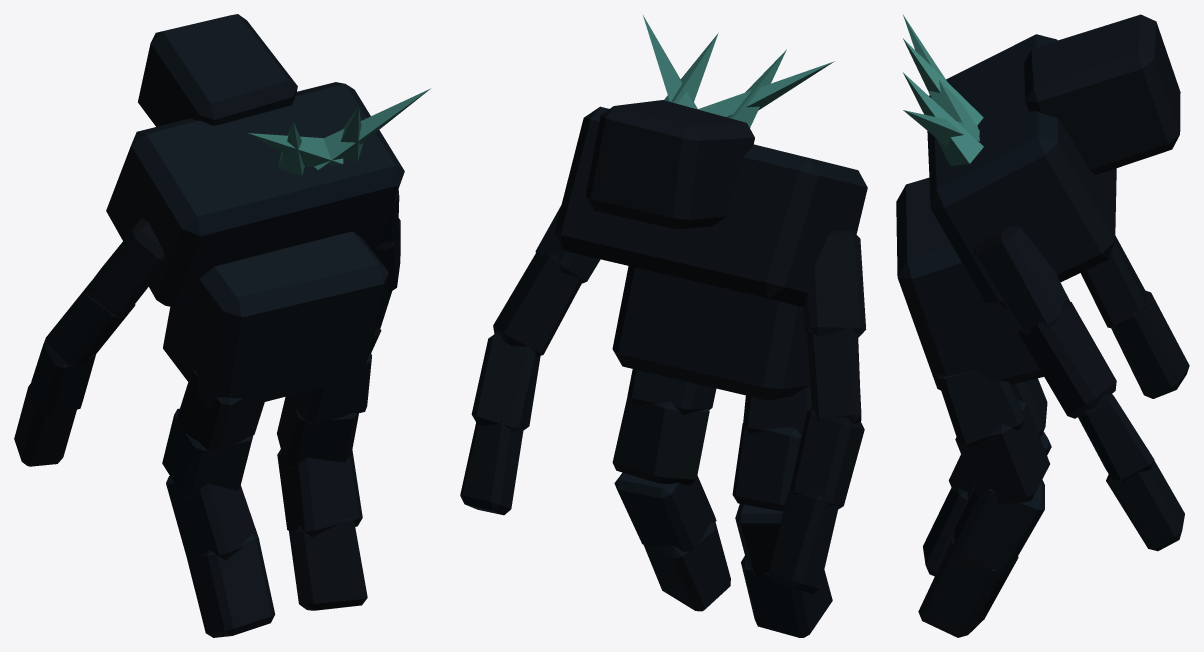
Rendered from inc_mare_sombra.fbx.
3 views of the same model, side by side, from view 1: azimuth 30°, elevation 25°; view 2: azimuth 150°, elevation 25°; view 3: azimuth 270°, elevation 25° (orthographic). The views are drawn at different scales.
Visible parts, largest first — view 1: inc_mare_sombra; view 2: inc_mare_sombra; view 3: inc_mare_sombra.
Part boxes in pixels (left/top/right/bottom): inc_mare_sombra: left=14, top=14, right=430, bottom=637; inc_mare_sombra: left=460, top=15, right=867, bottom=637; inc_mare_sombra: left=896, top=14, right=1189, bottom=637.
Size of the model in its own units: 3.45 by 5.07 by 2.34.
